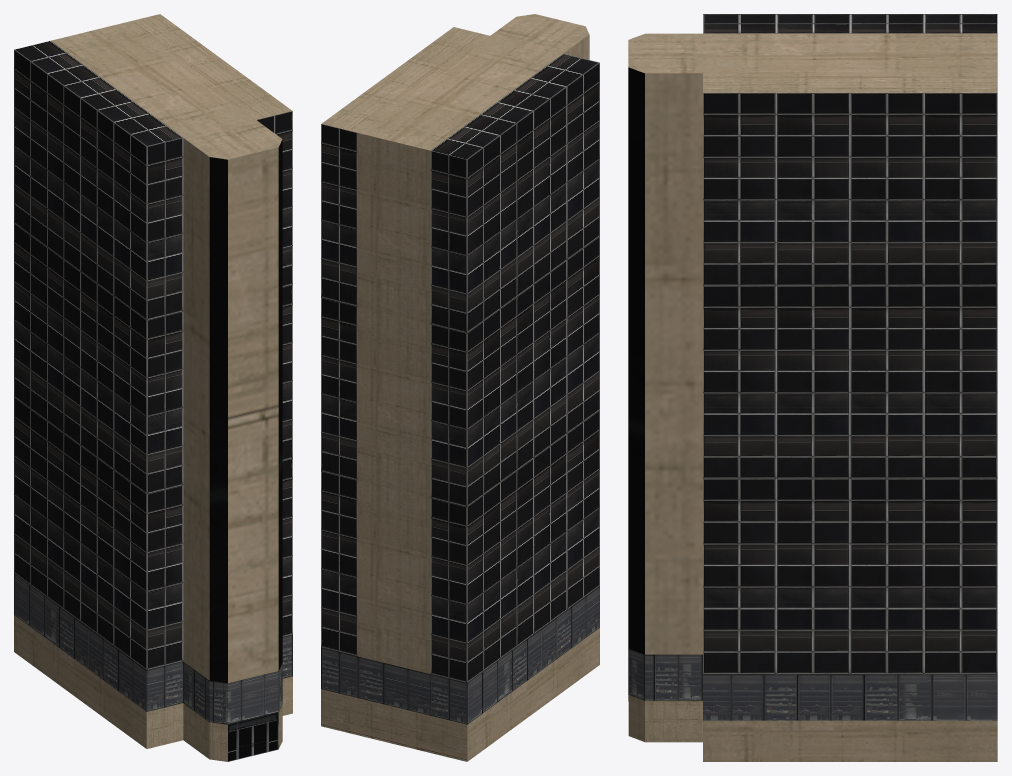
Rendered from Modern Building 01.FBX.
3 renders of one model, left to right at view 1: azimuth 30°, elevation 25°; view 2: azimuth 150°, elevation 25°; view 3: azimuth 270°, elevation 25°, orthographic. The views are drawn at different scales.
Parts seen in each view (by area): view 1: Modern Building 01; view 2: Modern Building 01; view 3: Modern Building 01.
Part boxes in pixels (left/top/right/bottom): Modern Building 01: left=14, top=14, right=292, bottom=761; Modern Building 01: left=321, top=14, right=599, bottom=761; Modern Building 01: left=628, top=14, right=997, bottom=761.
Size of the model in its own units: 116 by 457 by 229.
